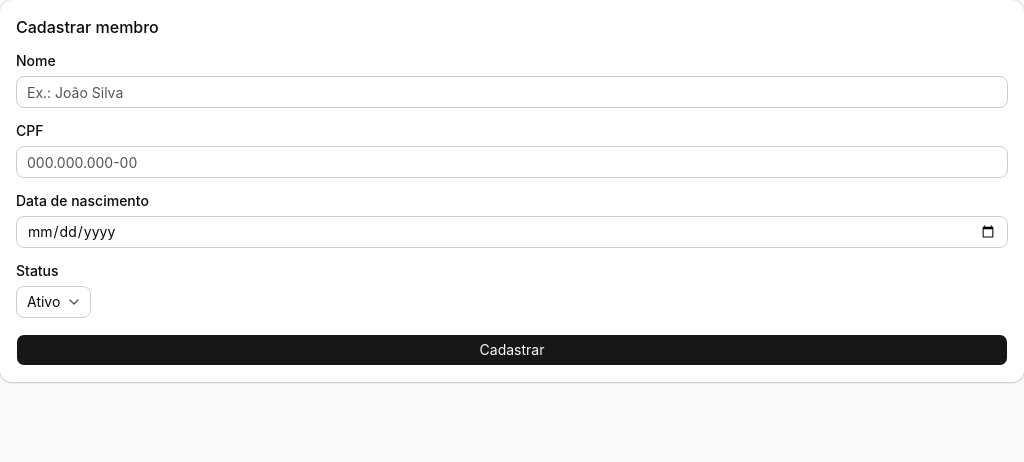
MemberForm › should show validation error when member is under eighteen
The width and height of the screenshot is (1024, 462).
In the field labelled "Nome": [512, 92] box [16,76,1008,108], type "João Silva"
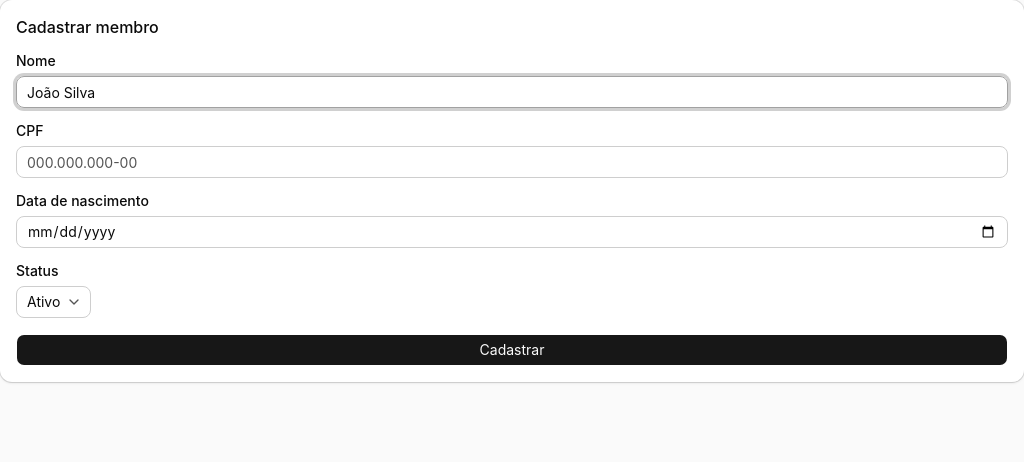
In the field labelled "CPF": [512, 162] box [16,146,1008,178], type "52998224725"
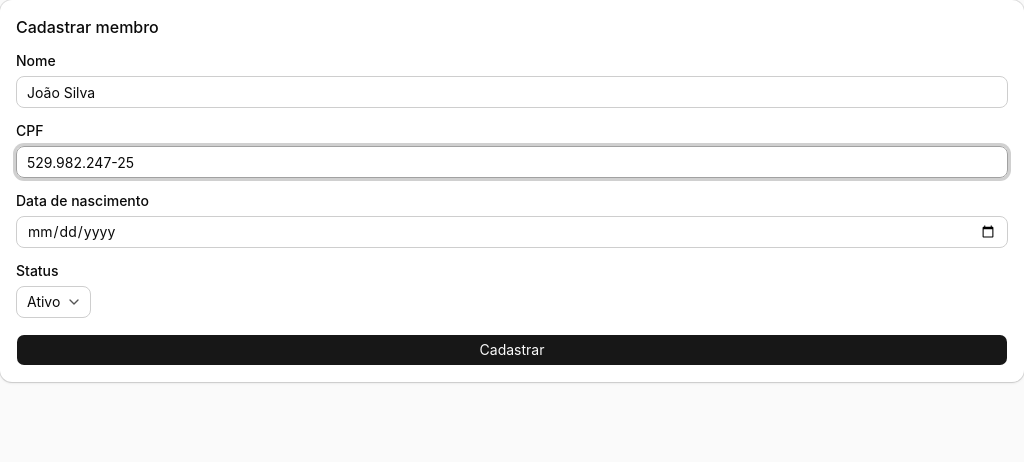
In the date field labelled "Data de nascimento": [512, 232] box [16,216,1008,248], type "2010-05-10"
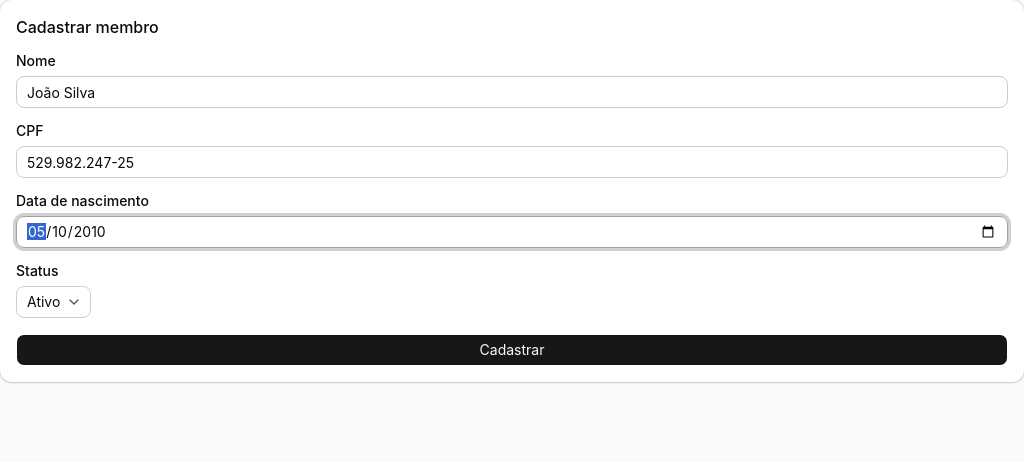
Click the button "Cadastrar": [512, 350] box [16,334,1008,366]
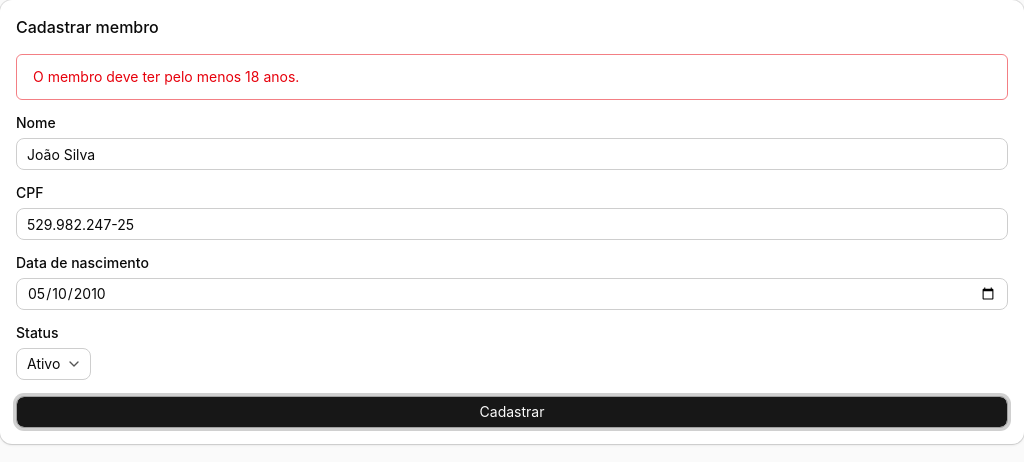
Now the text "O membro deve ter pelo menos 18 anos." is shown, box [16,54,1008,100]
